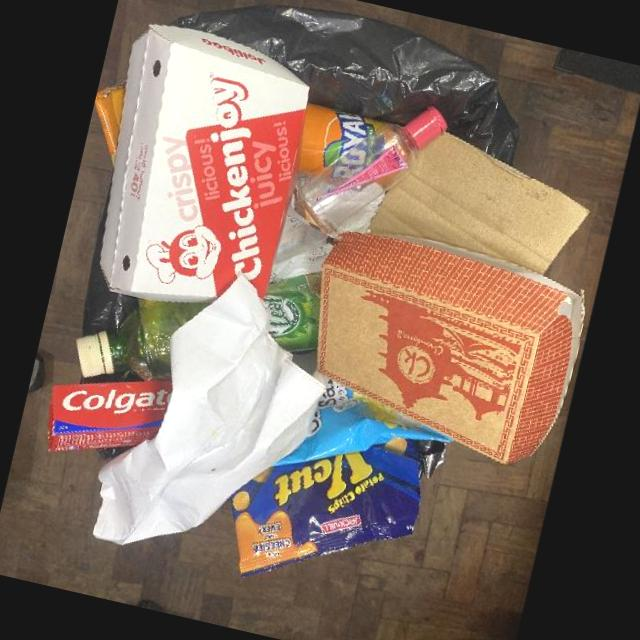bao_bi_thuc_pham: (230, 436, 445, 577), (272, 379, 453, 465)
carton: (316, 230, 584, 464), (100, 23, 309, 302), (366, 131, 590, 275), (48, 378, 172, 451)
chai_nhua: (76, 298, 210, 378), (264, 272, 321, 354)
giay: (92, 274, 327, 544), (268, 170, 384, 279)
hop_nhua: (299, 105, 447, 231)
nhom: (297, 102, 385, 176)
